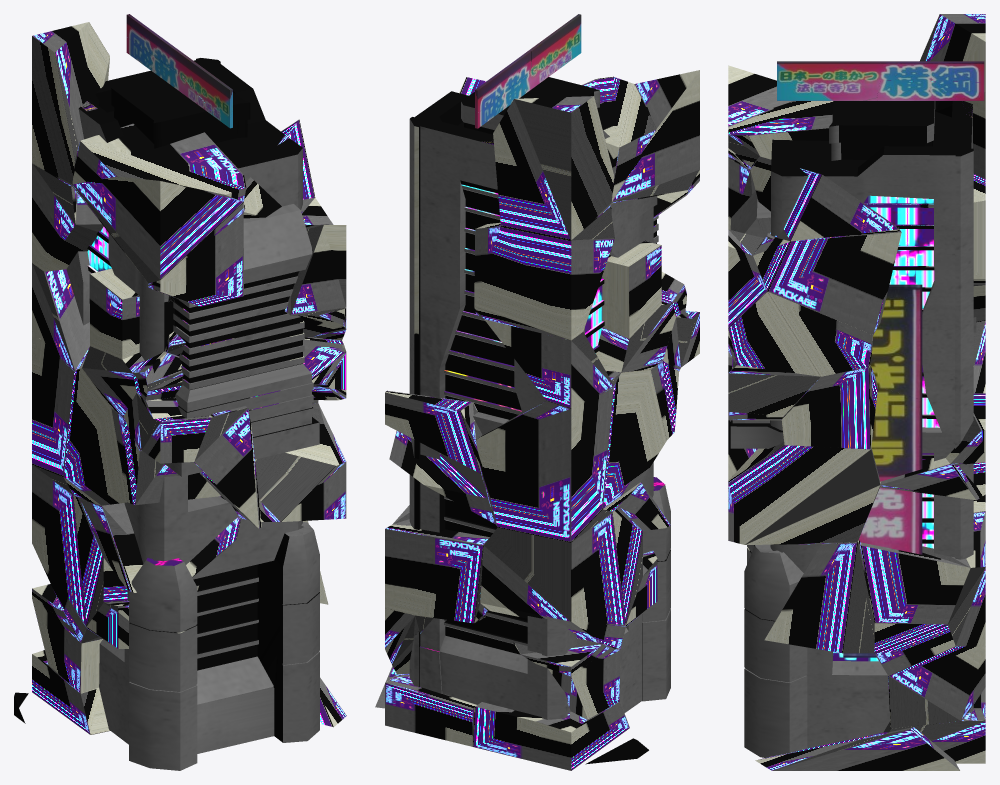
The model's file is shellyGebouw5.0 _Broken.fbx.
The picture shows the model from 3 angles, left to right: view 1: azimuth 30°, elevation 25°; view 2: azimuth 150°, elevation 25°; view 3: azimuth 270°, elevation 25°; orthographic projection.
Parts seen in each view (by area): view 1: w.001_cell.004, w.001_cell.010, w.001_cell.037, w.001_cell.046, w.001_cell.014, w.001_cell.075, w.001_cell.081, w.001_cell.018, w.001_cell.065, w.001_cell.080, w.001_cell.035, w.001_cell.070 (+31 smaller); view 2: w.001_cell.010, w.001_cell.091, w.001_cell.014, w.001_cell.065, w.001_cell.035, w.001_cell.049, w.001_cell.026, w.001_cell.046, w.001_cell.037, w.001_cell.031, w.001_cell.016, w.001_cell.080 (+28 smaller); view 3: w.001_cell.037, w.001_cell.018, w.001_cell.083, w.001_cell.087, w.001_cell.085, w.001_cell.010, w.001_cell.071, w.001_cell.021, w.001_cell.093, w.001_cell.004, Cube.008_cell.094, w.001_cell.011 (+27 smaller).
Boxes of the visible parts, <box> form: w.001_cell.004: <box>78,60,346,770</box>; w.001_cell.010: <box>66,58,344,767</box>; w.001_cell.037: <box>86,64,319,770</box>; w.001_cell.046: <box>72,176,245,283</box>; w.001_cell.014: <box>32,22,109,186</box>; w.001_cell.075: <box>87,228,258,654</box>; w.001_cell.081: <box>72,123,246,201</box>; w.001_cell.018: <box>220,403,346,521</box>; w.001_cell.065: <box>32,465,102,643</box>; w.001_cell.080: <box>63,368,127,505</box>; w.001_cell.035: <box>32,163,103,271</box>; w.001_cell.070: <box>194,406,261,528</box>; w.001_cell.010: <box>410,77,670,719</box>; w.001_cell.091: <box>476,388,613,542</box>; w.001_cell.014: <box>493,96,614,240</box>; w.001_cell.065: <box>480,509,625,649</box>; w.001_cell.035: <box>474,207,614,340</box>; w.001_cell.049: <box>444,181,603,653</box>; w.001_cell.026: <box>385,524,489,623</box>; w.001_cell.046: <box>611,70,699,204</box>; w.001_cell.037: <box>409,93,663,708</box>; w.001_cell.031: <box>472,701,629,770</box>; w.001_cell.016: <box>444,188,613,649</box>; w.001_cell.080: <box>602,369,666,511</box>; w.001_cell.037: <box>733,101,976,757</box>; w.001_cell.018: <box>728,441,880,544</box>; w.001_cell.083: <box>753,227,901,334</box>; w.001_cell.087: <box>728,203,934,540</box>; w.001_cell.085: <box>764,540,874,653</box>; w.001_cell.010: <box>730,101,972,682</box>; w.001_cell.071: <box>861,542,970,624</box>; w.001_cell.021: <box>888,646,985,728</box>; w.001_cell.093: <box>781,364,877,449</box>; w.001_cell.004: <box>728,101,973,415</box>; Cube.008_cell.094: <box>755,727,959,770</box>; w.001_cell.011: <box>833,195,939,661</box>.
Bounding box in the file's own units: 1045 × 2615 × 926.
